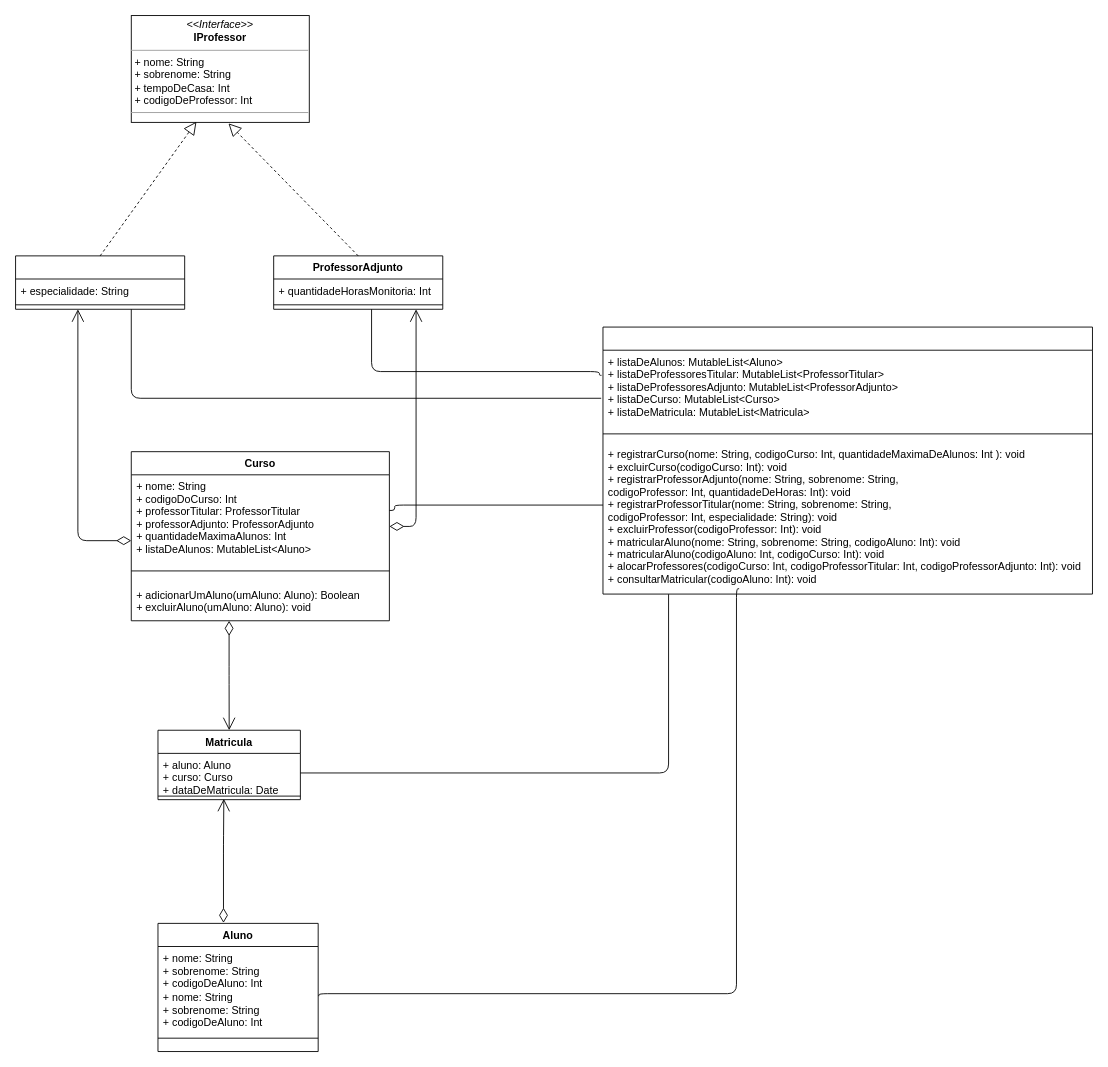
Image size: 1108x1067. Some labels were removed from this diagram. Each missing label, with the box of its shape:
DigitalHouseManager: (602, 326, 1092, 594)
ProfessorTitular: (15, 255, 185, 309)
